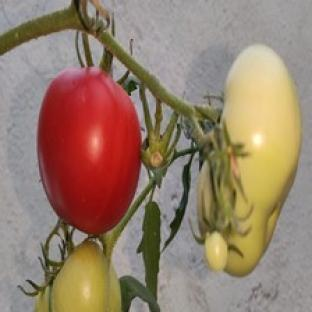Tomato: (222, 45, 300, 275), (38, 67, 140, 233), (52, 241, 121, 311), (205, 232, 228, 271), (35, 286, 51, 311)
